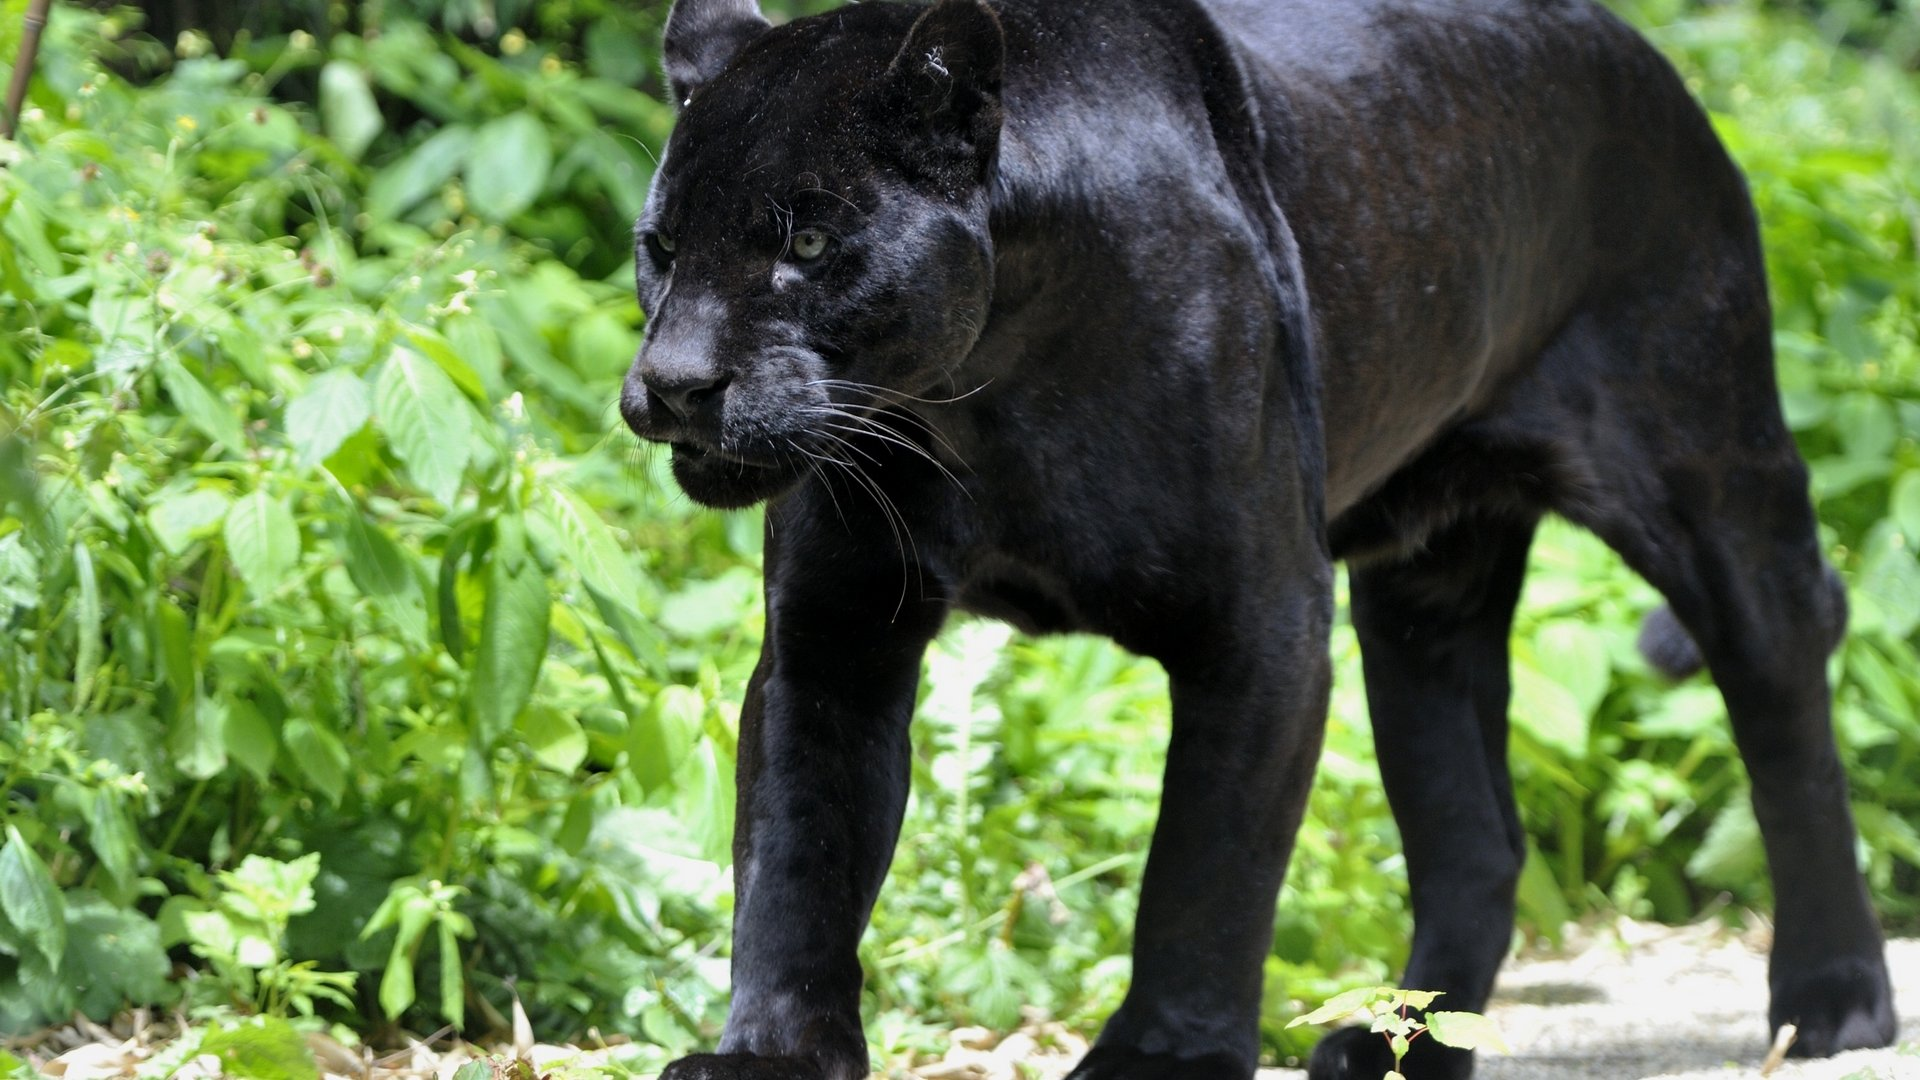panther: (582, 8, 1093, 527)
